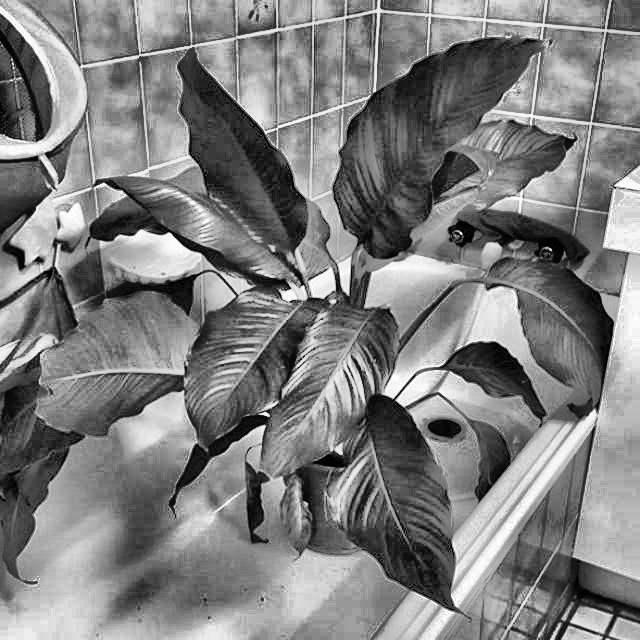plants: (80, 38, 614, 604), (462, 246, 608, 442), (233, 441, 328, 567), (164, 426, 228, 524)
